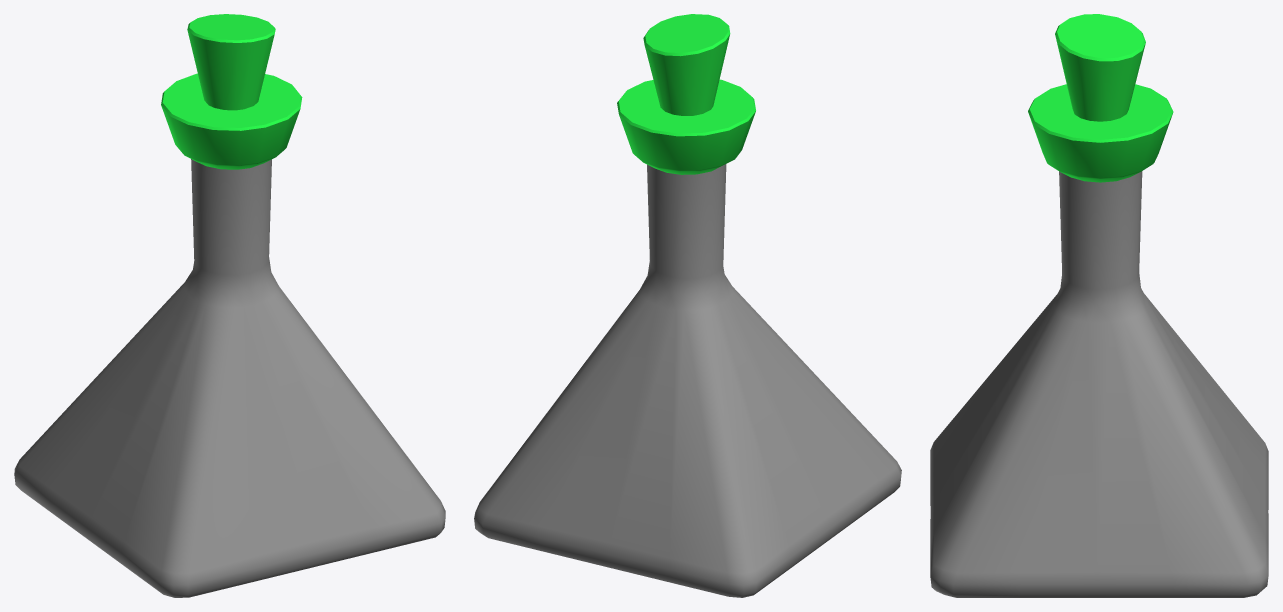
The model's file is PotionA.fbx.
3 views of the same model, side by side, from view 1: azimuth 30°, elevation 25°; view 2: azimuth 150°, elevation 25°; view 3: azimuth 270°, elevation 25° (orthographic). The views are drawn at different scales.
Parts seen in each view (by area): view 1: SM_Graveyard_PotionA_LOD0; view 2: SM_Graveyard_PotionA_LOD0; view 3: SM_Graveyard_PotionA_LOD0.
Boxes of the visible parts, <box> form: SM_Graveyard_PotionA_LOD0: <box>14,14,445,597</box>; SM_Graveyard_PotionA_LOD0: <box>474,14,901,597</box>; SM_Graveyard_PotionA_LOD0: <box>930,14,1268,597</box>.
Size of what is drawn, in the model's own units: 18.87 by 30.67 by 18.87.
